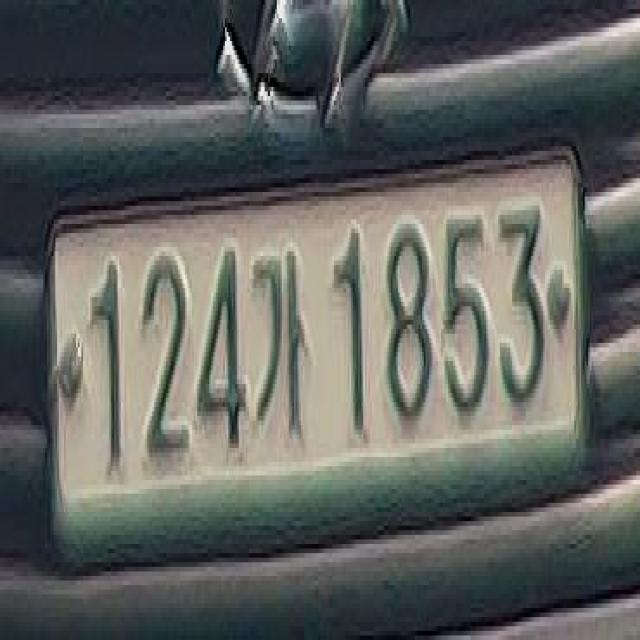illegal_plate: (43, 139, 595, 551)
